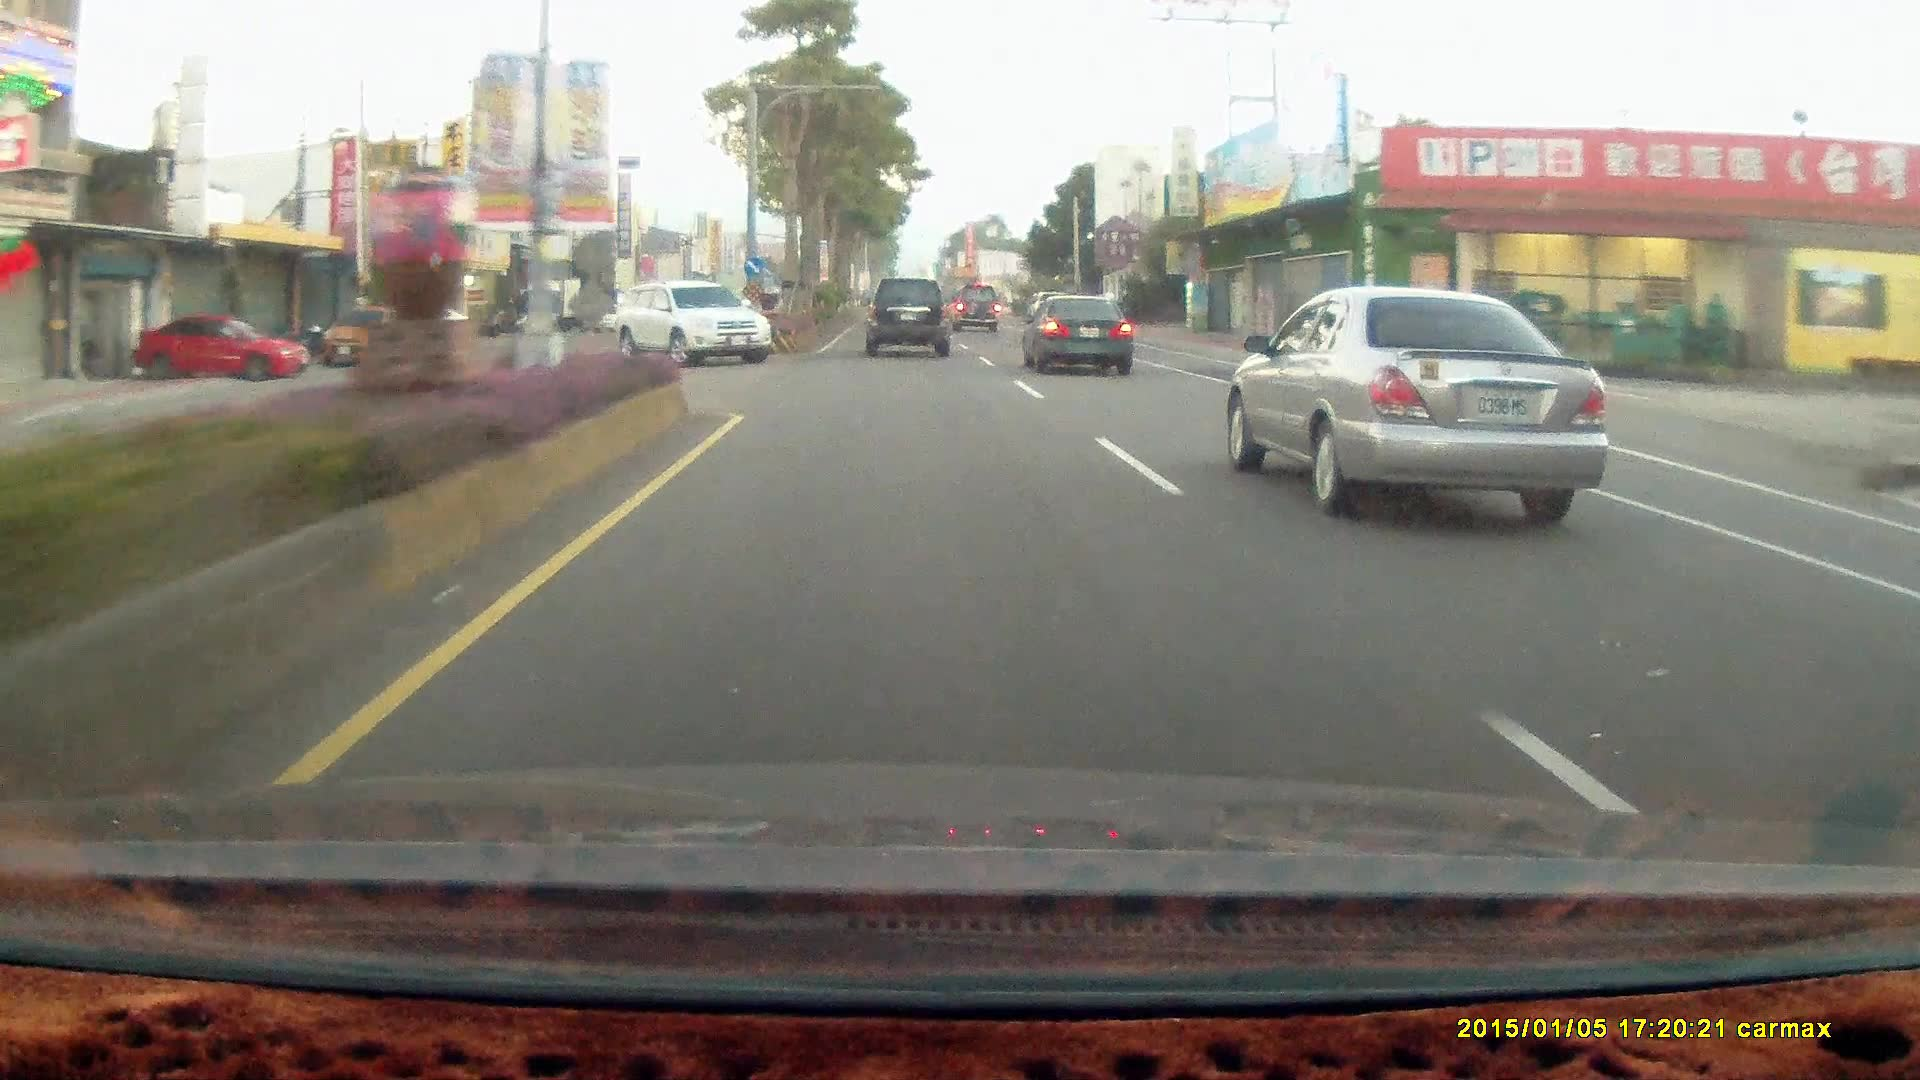vehicle: (1245, 284, 1619, 517), (611, 276, 771, 367), (622, 276, 777, 363), (131, 313, 309, 382), (136, 313, 313, 380), (1019, 289, 1133, 373), (1027, 295, 1137, 375), (869, 278, 957, 357), (864, 276, 948, 353), (318, 305, 410, 368), (378, 302, 472, 348), (949, 284, 1002, 335), (949, 282, 1000, 332)
